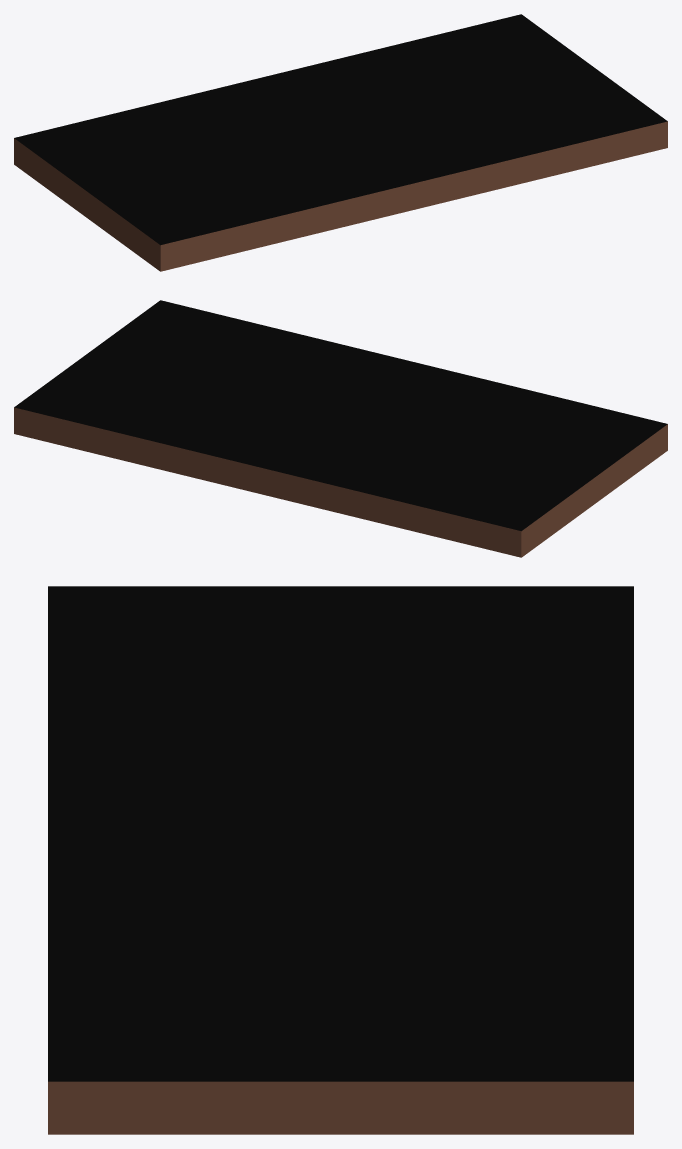
Rendered from Airs_Table.fbx.
The picture shows the model from 3 angles, top to bottom: view 1: azimuth 30°, elevation 25°; view 2: azimuth 150°, elevation 25°; view 3: azimuth 270°, elevation 25°; orthographic projection. The views are drawn at different scales.
Parts seen in each view (by area): view 1: Airs_Table; view 2: Airs_Table; view 3: Airs_Table.
Part boxes in pixels (bbox=[...]): Airs_Table: bbox=[14, 14, 667, 271]; Airs_Table: bbox=[14, 300, 667, 557]; Airs_Table: bbox=[48, 586, 633, 1134].
Bounding box in the file's own units: 2 × 0.1 × 1.
